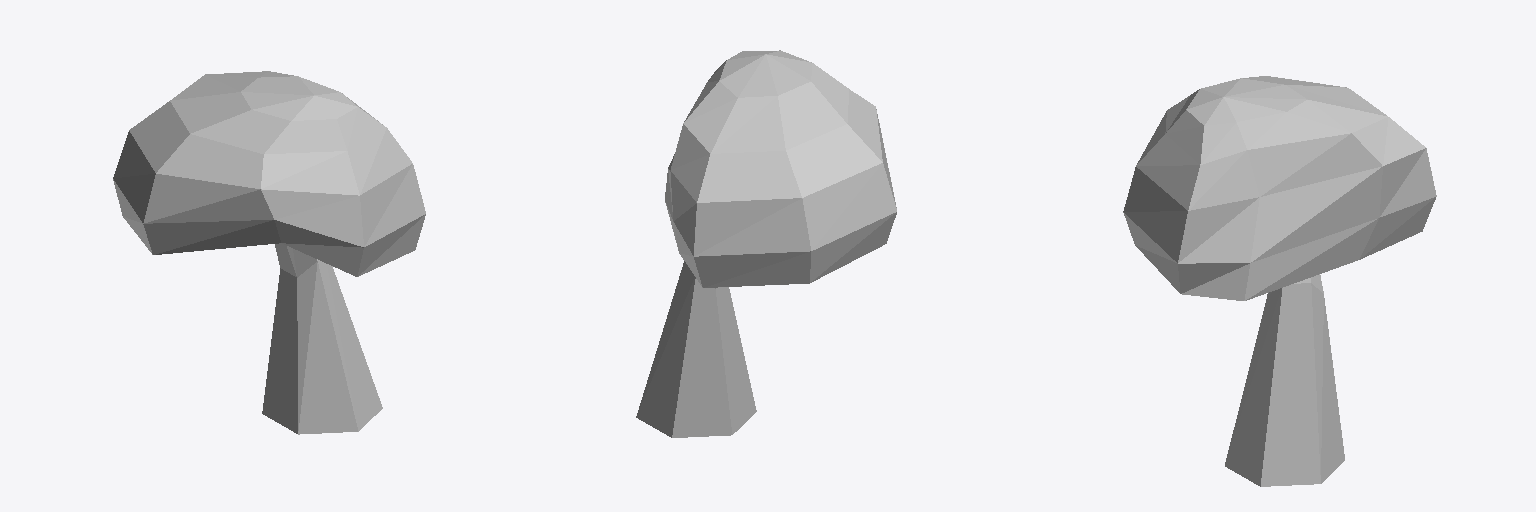
File: shroom2.obj
The picture shows the model from 3 angles: view 1: azimuth 30°, elevation 25°; view 2: azimuth 150°, elevation 25°; view 3: azimuth 270°, elevation 25°; orthographic projection.
Visible parts, largest first — view 1: shroom2, pCylinder1; view 2: shroom2, pCylinder1; view 3: shroom2, pCylinder1.
Boxes of the visible parts, x1=… form: shroom2: x1=113, y1=71, x2=425, y2=276; pCylinder1: x1=262, y1=243, x2=382, y2=434; shroom2: x1=665, y1=50, x2=896, y2=287; pCylinder1: x1=636, y1=261, x2=756, y2=437; shroom2: x1=1123, y1=76, x2=1436, y2=300; pCylinder1: x1=1225, y1=274, x2=1344, y2=486.
Size of the model in its own units: 0.7865 by 1.08 by 0.8814.